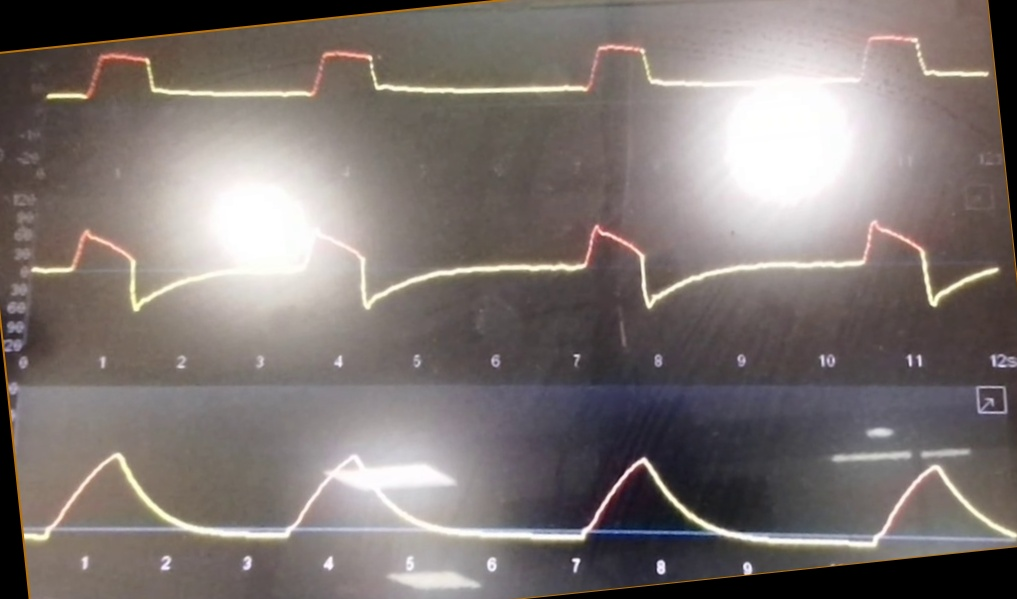Normal Flow: (36, 198, 1004, 329)
Normal Volume: (27, 425, 1017, 555)
